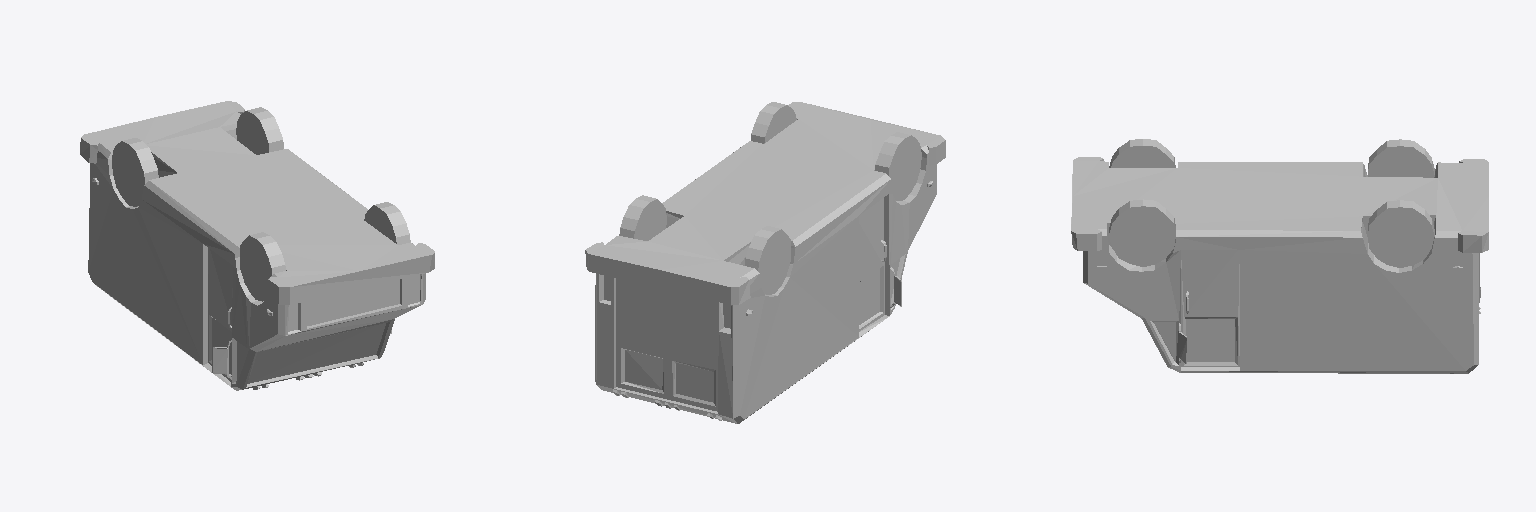
File: van.obj
3 views of the same model, side by side, from view 1: azimuth 30°, elevation 25°; view 2: azimuth 150°, elevation 25°; view 3: azimuth 270°, elevation 25° (orthographic).
Visible parts, largest first — view 1: Group05; view 2: Group05; view 3: Group05.
Part boxes in pixels (x1,y1,x2,y2): Group05: (80,101,434,390); Group05: (585,102,945,423); Group05: (1071,139,1488,373).
Size of the model in its own units: 3.12 by 2.82 by 6.37.